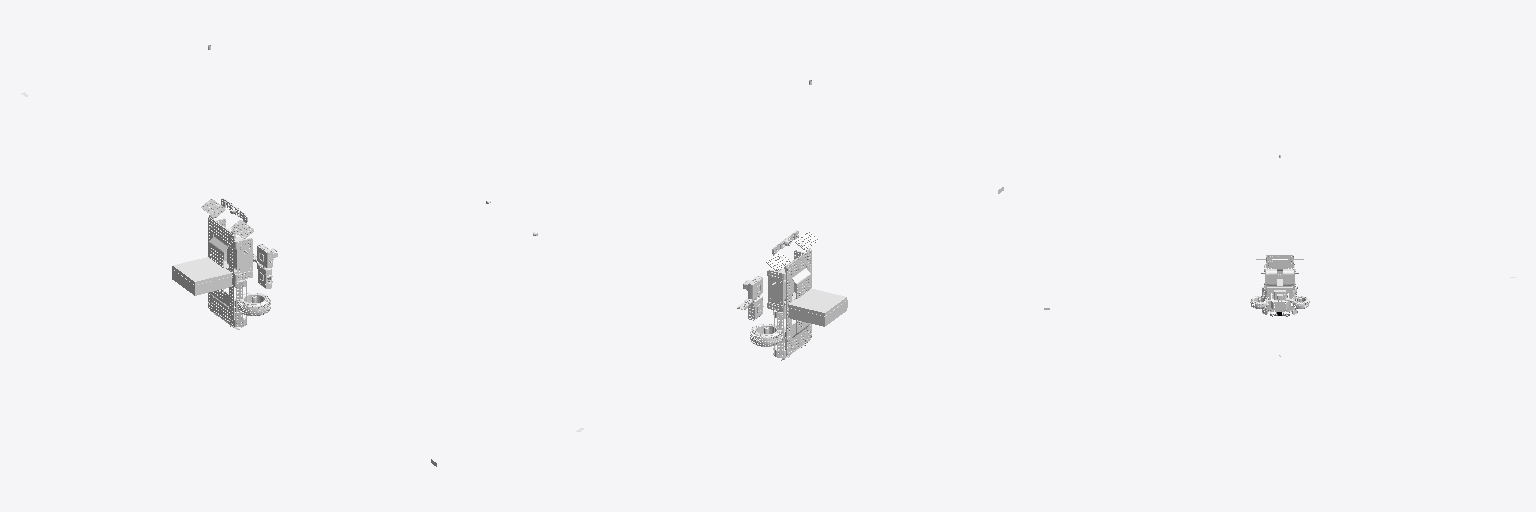
URDF robot description (alex):
<?xml version="1.0" ?>
<!-- =================================================================================== -->
<!-- |    This document was autogenerated by xacro from robots/alex.urdf.xacro         | -->
<!-- |    EDITING THIS FILE BY HAND IS NOT RECOMMENDED                                 | -->
<!-- =================================================================================== -->
<robot name="alex">
  <material name="grey">
    <color rgba="0.75 0.75 0.75 1.0"/>
  </material>
  <material name="red">
    <color rgba="0.8 0 0 1"/>
  </material>
  <material name="black">
    <color rgba="1.0 1.0 1.0 1"/>
  </material>
  <material name="pi-top_green">
    <color rgba="0 0.7 0.64 1"/>
  </material>
  <!-- Gazebo parameters -->
  <gazebo>
    <plugin filename="libgazebo_ros_diff_drive.so" name="differential_drive_controller">
      <legacyMode>false</legacyMode>
      <alwaysOn>true</alwaysOn>
      <updateRate>20</updateRate>
      <leftJoint>baselink_left_wheel_joint</leftJoint>
      <rightJoint>baselink_right_wheel_joint</rightJoint>
      <wheelSeparation>0.175</wheelSeparation>
      <wheelDiameter>0.075</wheelDiameter>
      <torque>0.01</torque>
      <commandTopic>cmd_vel</commandTopic>
      <odometryTopic>odom</odometryTopic>
      <odometryFrame>odom</odometryFrame>
      <robotBaseFrame>base_link</robotBaseFrame>
    </plugin>
    <plugin filename="libgazebo_ros_control.so" name="gazebo_ros_control">
      <robotNamespace>/alex</robotNamespace>
    </plugin>
  </gazebo>
  <!-- * * * * * * * * * -->
  <!-- * * * * * * * * * -->
  <!-- * * * * * * * * * -->
  <!-- * * * * * * * * * -->
  <!-- * * * * * * * * * -->
  <!-- * * * * * * * * * -->
  <!-- * * * * * * * * * -->
  <!-- * * * * * * * * * -->
  <gazebo reference="camera_sensor">
    <sensor name="camera1" type="camera">
      <update_rate>30.0</update_rate>
      <camera name="pan_tilt_camera">
        <horizontal_fov>1.8849555921538759</horizontal_fov>
        <image>
          <width>640</width>
          <height>480</height>
          <format>R8G8B8</format>
        </image>
        <clip>
          <near>0.02</near>
          <far>300</far>
        </clip>
        <noise>
          <type>gaussian</type>
          <!-- Noise is sampled independently per pixel on each frame.
                    That pixel's noise value is added to each of its color
                    channels, which at that point lie in the range [0,1]. -->
          <mean>0.0</mean>
          <stddev>0.007</stddev>
        </noise>
      </camera>
      <plugin filename="libgazebo_ros_camera.so" name="camera_controller">
        <alwaysOn>true</alwaysOn>
        <updateRate>0.0</updateRate>
        <cameraName>alex/camera1</cameraName>
        <imageTopicName>image_raw</imageTopicName>
        <cameraInfoTopicName>camera_info</cameraInfoTopicName>
        <frameName>camera_sensor</frameName>
        <hackBaseline>0.07</hackBaseline>
        <distortionK1>0.0</distortionK1>
        <distortionK2>0.0</distortionK2>
        <distortionK3>0.0</distortionK3>
        <distortionT1>0.0</distortionT1>
        <distortionT2>0.0</distortionT2>
      </plugin>
    </sensor>
  </gazebo>
  <!--    <xacro:macro name="camera_sensor_joint_origin">-->
  <!--        <origin xyz="0 0.0014 0" rpy="${-pi/2} ${pi} 0"/>-->
  <!--    </xacro:macro>-->
  <!-- * * * * * * * * * -->
  <!-- * * * * * * * * * -->
  <!-- Model Definitions -->
  <link name="base_link">
    <pose>0 0 0.0375 0 0 0</pose>
  </link>
  <link name="chassis">
    <inertial>
      <origin rpy="0 0 0" xyz="0 -0.046975 0"/>
      <mass value="0.65"/>
      <inertia ixx="0.004314754166666667" ixy="0.0" ixz="0.0" iyy="0.006123" iyz="0.0" izz="0.0021853541666666666"/>
    </inertial>
    <visual>
      <origin rpy="0 0 0" xyz="0 0 0"/>
      <geometry>
        <!--                <box size="${chassis_width_x} ${chassis_depth_y} ${chassis_height_z}"/>-->
        <mesh filename="model://alex/meshes/chassis_asm_dessimate.dae"/>
      </geometry>
      <material name="black"/>
    </visual>
    <collision>
      <origin rpy="0 0 0" xyz="0 -0.046975 0"/>
      <geometry>
        <box size="0.192 0.059 0.276"/>
      </geometry>
    </collision>
  </link>
  <joint name="baselink_chassis_joint" type="fixed">
    <parent link="base_link"/>
    <child link="chassis"/>
    <origin rpy="1.5707963267948966 0 -1.5707963267948966" xyz="-0.068 0 0.056475"/>
  </joint>
  <gazebo reference="chassis">
    <kp>10000.0</kp>
    <kd>10000.0</kd>
    <mu1>1.0</mu1>
    <mu2>1.0</mu2>
  </gazebo>
  <link name="ep">
    <inertial>
      <origin rpy="0 0 0" xyz="0 -0.0085 0"/>
      <mass value="0.05"/>
      <inertia ixx="7.616666666666668e-05" ixy="0.0" ixz="0.0" iyy="0.00011774270833333335" iyz="0.0" izz="4.4276041666666666e-05"/>
    </inertial>
    <visual>
      <origin rpy="0 0 0" xyz="0 0 0"/>
      <geometry>
        <box size="0.1015 0.018 0.134"/>
        <!--                <mesh filename="${ep_mesh_path}"/>-->
      </geometry>
      <material name="black"/>
    </visual>
    <collision>
      <origin rpy="0 0 0" xyz="0 -0.0085 0"/>
      <geometry>
        <box size="0.1015 0.018 0.134"/>
      </geometry>
    </collision>
  </link>
  <joint name="chassis_ep_joint" type="fixed">
    <parent link="chassis"/>
    <child link="ep"/>
    <!--    	<xacro:ep_joint_origin/>-->
  </joint>
  <gazebo reference="ep">
    <kp>10000.0</kp>
    <kd>10000.0</kd>
    <mu1>1.0</mu1>
    <mu2>1.0</mu2>
  </gazebo>
  <link name="pt4">
    <inertial>
      <origin rpy="0 0 0" xyz="0 0.017 0"/>
      <mass value="0.39"/>
      <inertia ixx="0.0006038500000000001" ixy="0.0" ixz="0.0" iyy="0.0008880381250000001" iyz="0.0" izz="0.00035932812500000006"/>
    </inertial>
    <visual>
      <origin rpy="0 0 0" xyz="0 0 0"/>
      <geometry>
        <box size="0.0995 0.034 0.132"/>
        <!--                <mesh filename="${pt4_mesh_path}"/>-->
      </geometry>
      <material name="black"/>
    </visual>
    <collision>
      <origin rpy="0 0 0" xyz="0 0.017 0"/>
      <geometry>
        <box size="0.0995 0.034 0.132"/>
      </geometry>
    </collision>
  </link>
  <joint name="chassis_pt4_joint" type="fixed">
    <parent link="chassis"/>
    <child link="pt4"/>
    <!--    	<xacro:pt4_joint_origin/>-->
  </joint>
  <gazebo reference="pt4">
    <kp>10000.0</kp>
    <kd>10000.0</kd>
    <mu1>1.0</mu1>
    <mu2>1.0</mu2>
  </gazebo>
  <link name="right_wheel">
    <inertial>
      <origin rpy="0 0 0" xyz="0 0 0"/>
      <mass value="0.01"/>
      <inertia ixx="4.2164583333333334e-06" ixy="0.0" ixz="0.0" iyy="4.2164583333333334e-06" iyz="0.0" izz="0.00045703124999999997"/>
    </inertial>
    <visual>
      <origin rpy="0 0 0" xyz="0 0 0"/>
      <geometry>
        <mesh filename="model://alex/meshes/wheel_asm_decimate_3.dae"/>
        <!--                <cylinder radius="${wheel_radius}" length="${wheel_width}"/>-->
      </geometry>
      <material name="black"/>
    </visual>
    <collision>
      <origin rpy="0 0 0" xyz="0 0 0"/>
      <geometry>
        <cylinder length="0.029" radius="0.0375"/>
      </geometry>
    </collision>
  </link>
  <joint name="baselink_right_wheel_joint" type="continuous">
    <parent link="base_link"/>
    <child link="right_wheel"/>
    <origin rpy="-1.5707963267948966 0 0" xyz="0 -0.0805 0"/>
    <limit effort="0.1" velocity="0.45"/>
    <axis rpy="0 0 0" xyz="0 0 1"/>
    <joint_properties damping="1.0" friction="1.0"/>
  </joint>
  <link name="left_wheel">
    <inertial>
      <origin rpy="0 0 0" xyz="0 0 0"/>
      <mass value="0.01"/>
      <inertia ixx="4.2164583333333334e-06" ixy="0.0" ixz="0.0" iyy="4.2164583333333334e-06" iyz="0.0" izz="0.00045703124999999997"/>
    </inertial>
    <visual>
      <origin rpy="0 3.141592653589793 0" xyz="0 0 0"/>
      <geometry>
        <mesh filename="model://alex/meshes/wheel_asm_decimate_3.dae"/>
        <!--                <cylinder radius="${wheel_radius}" length="${wheel_width}"/>-->
      </geometry>
      <material name="black"/>
    </visual>
    <collision>
      <origin rpy="0 0 0" xyz="0 0 0"/>
      <geometry>
        <cylinder length="0.029" radius="0.0375"/>
      </geometry>
    </collision>
  </link>
  <joint name="baselink_left_wheel_joint" type="continuous">
    <parent link="base_link"/>
    <child link="left_wheel"/>
    <origin rpy="-1.5707963267948966 0 0" xyz="0 0.0805 0"/>
    <limit effort="0.1" velocity="0.45"/>
    <axis rpy="0 0 0" xyz="0 0 1"/>
    <joint_properties damping="1.0" friction="1.0"/>
  </joint>
  <link name="castor">
    <inertial>
      <origin rpy="0 0 0" xyz="0 0 -0.0125"/>
      <mass value="0.001"/>
      <inertia ixx="1.1769333333333332e-07" ixy="0.0" ixz="0.0" iyy="1.1769333333333332e-07" iyz="0.0" izz="1.3121999999999998e-07"/>
    </inertial>
    <visual>
      <origin rpy="1.5707963267948966 0 -1.5707963267948966" xyz="0.08 0 0.058515"/>
      <geometry>
        <mesh filename="model://alex/meshes/castor_asm_3_dessimate.dae"/>
      </geometry>
    </visual>
    <collision>
      <origin rpy="0 0 0" xyz="0 0 -0.0125"/>
      <geometry>
        <cylinder length="0.025" radius="0.0162"/>
      </geometry>
    </collision>
  </link>
  <joint name="baselink_castor_joint" type="continuous">
    <parent link="base_link"/>
    <child link="castor"/>
    <origin rpy="0 0 0" xyz="-0.148 0 -0.00204"/>
    <limit effort="1.0" velocity="0.45"/>
    <axis rpy="0 0 0" xyz="0 0 1"/>
    <joint_properties damping="1.0" friction="1.0"/>
  </joint>
  <gazebo reference="castor">
    <kp>10000.0</kp>
    <kd>10000.0</kd>
    <mu1>10.0</mu1>
    <mu2>10.0</mu2>
  </gazebo>
  <link name="castor_wheel">
    <inertial>
      <origin rpy="0 0 0" xyz="0 0 0"/>
      <mass value="0.001"/>
      <inertia ixx="5.658333333333334e-08" ixy="0.0" ixz="0.0" iyy="5.658333333333334e-08" iyz="0.0" izz="7.812500000000002e-08"/>
    </inertial>
    <collision>
      <origin rpy="0 0 0" xyz="0 0 0"/>
      <geometry>
        <cylinder length="0.0145" radius="0.0125"/>
      </geometry>
    </collision>
  </link>
  <joint name="castor_castorwheel_joint" type="continuous">
    <parent link="castor"/>
    <child link="castor_wheel"/>
    <origin rpy="-1.5707963267948966 0 0" xyz="-0.016 0 -0.0205"/>
    <limit effort="1.0" velocity="0.45"/>
    <axis rpy="0 0 0" xyz="0 0 1"/>
    <joint_properties damping="1.0" friction="1.0"/>
  </joint>
  <link name="pan_mechanism">
    <inertial>
      <origin rpy="0 0 0" xyz="0 0 0"/>
      <mass value="0.005"/>
      <inertia ixx="1.5776041666666668e-06" ixy="0.0" ixz="0.0" iyy="1.066666666666667e-06" iyz="0.0" izz="7.242708333333334e-07"/>
    </inertial>
    <visual>
      <!--            <xacro:pan_mechanism_origin/>-->
      <origin rpy="0 0 0" xyz="0 0 0"/>
      <geometry>
        <!--                <box size="${pan_mechanism_width_x} ${pan_mechanism_depth_y} ${pan_mechanism_height_z}"/>-->
        <mesh filename="model://alex/meshes/pan_asm_2_dessimate_2.dae"/>
      </geometry>
      <material name="black"/>
    </visual>
    <collision>
      <origin rpy="0 0 0" xyz="0 0 0"/>
      <geometry>
        <box size="0.016 0.0385 0.048"/>
      </geometry>
    </collision>
  </link>
  <joint name="pan_mechanism_joint" type="revolute">
    <parent link="chassis"/>
    <child link="pan_mechanism"/>
    <origin rpy="3.141592653589793 -1.5707963267948966 0" xyz="0 -0.0372805 -0.142268"/>
    <limit effort="1.0" lower="-1.5707963267948966" upper="1.5707963267948966" velocity="1.7453292519943295"/>
    <axis rpy="0 0 0" xyz="0 1 0"/>
    <joint_properties damping="1.0" friction="1.0"/>
  </joint>
  <link name="tilt_mechanism">
    <inertial>
      <origin rpy="0 0 0" xyz="0 0 0"/>
      <mass value="0.005"/>
      <inertia ixx="1.5776041666666668e-06" ixy="0.0" ixz="0.0" iyy="1.066666666666667e-06" iyz="0.0" izz="7.242708333333334e-07"/>
    </inertial>
    <visual>
      <!--            <xacro:tilt_mechanism_origin/>-->
      <origin rpy="0 0 0" xyz="0 0 0"/>
      <geometry>
        <!--                <box size="${tilt_mechanism_width_x} ${tilt_mechanism_depth_y} ${tilt_mechanism_height_z}"/>-->
        <mesh filename="model://alex/meshes/tilt_asm_dessimate.dae"/>
      </geometry>
      <material name="black"/>
    </visual>
    <collision>
      <origin rpy="0 0 0" xyz="0 0 0"/>
      <geometry>
        <box size="0.016 0.0385 0.048"/>
      </geometry>
    </collision>
  </link>
  <joint name="tilt_mechanism_joint" type="revolute">
    <parent link="pan_mechanism"/>
    <child link="tilt_mechanism"/>
    <origin rpy="1.5707963267948966 0 3.141592653589793" xyz="0 -0.04825 -0.000526152"/>
    <limit effort="1.0" lower="-1.5707963267948966" upper="1.5707963267948966" velocity="1.7453292519943295"/>
    <axis rpy="0 0 0" xyz="0 1 0"/>
    <joint_properties damping="1.0" friction="1.0"/>
  </joint>
  <gazebo reference="left_wheel">
    <kp>500.0</kp>
    <kd>500.0</kd>
    <mu1>10.0</mu1>
    <mu2>10.0</mu2>
  </gazebo>
  <gazebo reference="right_wheel">
    <kp>500.0</kp>
    <kd>500.0</kd>
    <mu1>10.0</mu1>
    <mu2>10.0</mu2>
  </gazebo>
  <gazebo reference="castor_wheel">
    <kp>1000.0</kp>
    <kd>1000.0</kd>
    <mu1>10.0</mu1>
    <mu2>10.0</mu2>
  </gazebo>
  <gazebo reference="pan_mechanism">
    <kp>10000.0</kp>
    <kd>10000.0</kd>
    <mu1>1.0</mu1>
    <mu2>1.0</mu2>
  </gazebo>
  <gazebo reference="tilt_mechanism">
    <kp>10000.0</kp>
    <kd>10000.0</kd>
    <mu1>1.0</mu1>
    <mu2>1.0</mu2>
  </gazebo>
  <transmission name="pan_transmission">
    <type>transmission_interface/SimpleTransmission</type>
    <joint name="pan_mechanism_joint">
      <hardwareInterface>hardware_interface/PositionJointInterface</hardwareInterface>
    </joint>
    <actuator name="pan_servo_actuator">
      <hardwareInterface>hardware_interface/PositionJointInterface</hardwareInterface>
      <mechanicalReduction>1</mechanicalReduction>
    </actuator>
  </transmission>
  <transmission name="tilt_transmission">
    <type>transmission_interface/SimpleTransmission</type>
    <joint name="tilt_mechanism_joint">
      <hardwareInterface>hardware_interface/PositionJointInterface</hardwareInterface>
    </joint>
    <actuator name="tilt_servo_actuator">
      <hardwareInterface>hardware_interface/PositionJointInterface</hardwareInterface>
      <mechanicalReduction>1</mechanicalReduction>
    </actuator>
  </transmission>
  <link name="camera_module">
    <inertial>
      <origin rpy="0 0 0" xyz="0 -0.0031 0"/>
      <mass value="0.005"/>
      <inertia ixx="2.9909270833333334e-07" ixy="0.0" ixz="0.0" iyy="4.7005208333333334e-07" iyz="0.0" izz="2.9909270833333334e-07"/>
    </inertial>
    <visual>
      <!--            <xacro:camera_module_box_origin/>-->
      <origin rpy="0 0 0" xyz="0 0 0"/>
      <geometry>
        <!--                <box size="${camera_module_width_x} ${camera_module_depth_y} ${camera_module_height_z}"/>-->
        <mesh filename="model://alex/meshes/camera_asm_2_dessimate.dae"/>
      </geometry>
      <material name="black"/>
    </visual>
    <collision>
      <origin rpy="0 0 0" xyz="0 -0.0031 0"/>
      <geometry>
        <box size="0.02375 0.0124 0.02375"/>
      </geometry>
    </collision>
  </link>
  <joint name="camera_module_joint" type="fixed">
    <parent link="tilt_mechanism"/>
    <child link="camera_module"/>
    <origin rpy="0 0 -1.5707963267948966" xyz="0.0176 0.00035 0"/>
  </joint>
  <link name="camera_sensor">
    <visual>
      <origin rpy="0 0 0" xyz="0 0 0"/>
      <geometry>
        <box size="0.001 0.001 0.001"/>
      </geometry>
      <material name="red"/>
    </visual>
  </link>
  <joint name="camera_sensor_joint" type="fixed">
    <parent link="camera_module"/>
    <child link="camera_sensor"/>
    <origin rpy="3.141592653589793 0 1.5707963267948966" xyz="0 0.0014 0"/>
  </joint>
  <link name="imu_link">
    <visual>
      <origin rpy="0 0 0" xyz="0 0 0"/>
      <geometry>
        <box size="0.001 0.001 0.001"/>
      </geometry>
      <material name="red"/>
    </visual>
  </link>
  <joint name="ep_imu_joint" type="fixed">
    <parent link="ep"/>
    <child link="imu_link"/>
    <origin rpy="0 0 0" xyz="0 -0.0085 0"/>
  </joint>
  <gazebo reference="imu_link">
    <gravity>true</gravity>
    <sensor name="imu_sensor" type="imu">
      <always_on>true</always_on>
      <update_rate>100</update_rate>
      <visualize>true</visualize>
      <topic>__default_topic__</topic>
      <plugin filename="libgazebo_ros_imu_sensor.so" name="imu_plugin">
        <topicName>imu</topicName>
        <bodyName>imu_link</bodyName>
        <updateRateHZ>10.0</updateRateHZ>
        <gaussianNoise>0.0</gaussianNoise>
        <xyzOffset>0 0 0</xyzOffset>
        <rpyOffset>0 0 0</rpyOffset>
        <frameName>imu_link</frameName>
        <initialOrientationAsReference>false</initialOrientationAsReference>
      </plugin>
      <pose>0 0 0 0 0 0</pose>
    </sensor>
  </gazebo>
</robot>

--- Facts derived from the render (not from the file) ---
Views: 3 orthographic renders of the robot side by side, from view 1: azimuth 30°, elevation 25°; view 2: azimuth 150°, elevation 25°; view 3: azimuth 270°, elevation 25°.
Model alex with 13 links and 12 joints (2 revolute, 4 continuous, 6 fixed), rooted at base_link, posed every joint at zero.
Links seen in each view (by area): view 1: chassis, pt4, right_wheel; view 2: chassis, pt4, left_wheel; view 3: chassis.
Link boxes in pixels (x1=…): chassis: x1=201, y1=45, x2=436, y2=466; pt4: x1=172, y1=257, x2=238, y2=295; right_wheel: x1=237, y1=293, x2=270, y2=315; chassis: x1=766, y1=80, x2=1003, y2=360; pt4: x1=784, y1=288, x2=846, y2=326; left_wheel: x1=750, y1=324, x2=782, y2=346; chassis: x1=1044, y1=155, x2=1303, y2=316.
Bounding box of the posed robot: 0.7869 × 1.88 × 0.6873 m (x, y, z).
7 mesh visuals loaded from 6 distinct referenced files (6 Collada DAE).
